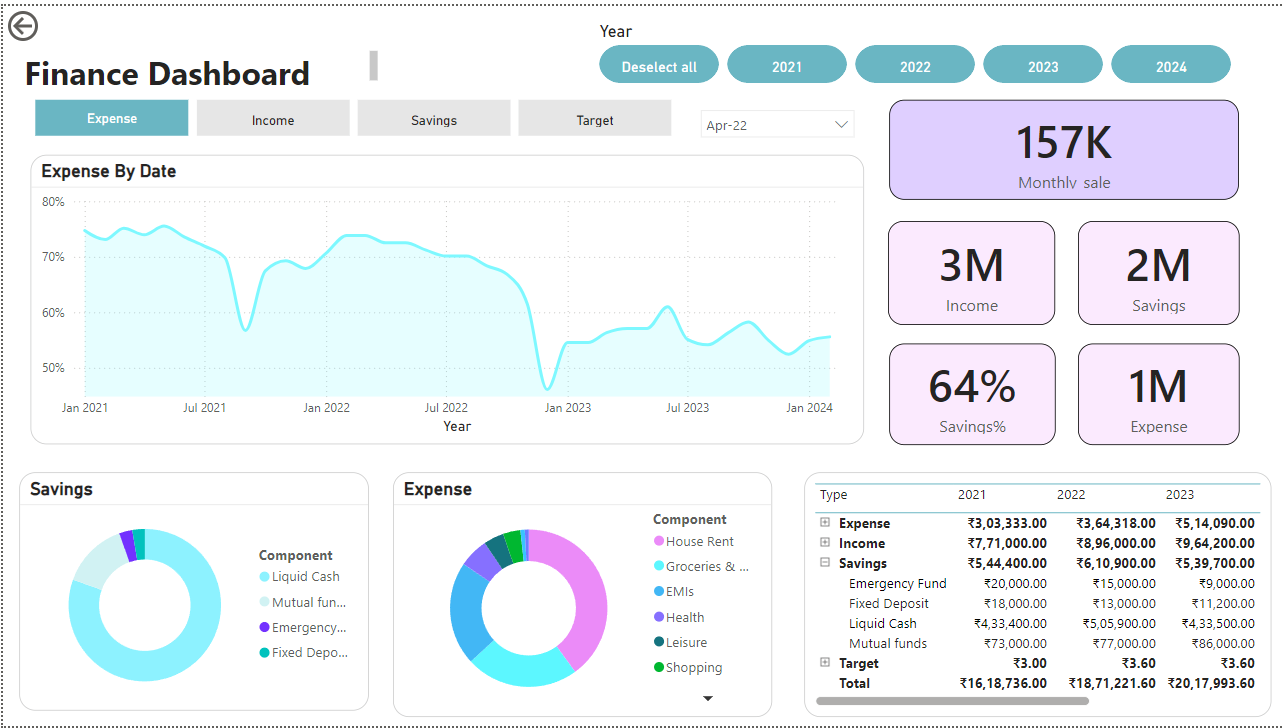

This screenshot's page, from the dashboard's own definition file:
{"tool":"powerbi","page":{"name":"Page 1","canvas":[1280,720],"ordinal":0},"visuals":[{"type":"card","fields":{"Values":["FinData.Income"]},"box":[885.3,215.2,167.5,103.9],"z":0},{"type":"card","fields":{"Values":["FinData.Savings"]},"box":[1074.9,215.2,161.4,103.9],"z":1000},{"type":"card","fields":{"Values":["FinData.Expense"]},"box":[1074.9,337.5,161.4,101.5],"z":2000},{"type":"card","fields":{"Values":["FinData.Savings%"]},"box":[886.6,337.5,166.3,101.5],"z":3000},{"type":"advancedSlicerVisual","fields":{"Values":["FinData.Year"]},"box":[591.9,14.7,644.4,67.3],"z":4000},{"type":"donutChart","title":"Savings","fields":{"Category":["FinData.Component"],"Y":["FinData.Savings"]},"box":[15.9,465.9,349.7,238.5],"z":5000},{"type":"donutChart","title":"Expense","fields":{"Category":["FinData.Component"],"Y":["FinData.Expense"]},"box":[390.1,465.9,379.1,244.6],"z":6000},{"type":"pivotTable","fields":{"Rows":["FinData.Type","FinData.Component"],"Columns":["FinData.Year"],"Values":["FinData.Total_value"]},"box":[801,465.9,467.1,244.6],"z":7000},{"type":"actionButton","box":[0,0,100,40],"z":8000},{"type":"areaChart","fields":{"Category":["FinData.Date.Variation.Date Hierarchy.Year","FinData.Date.Variation.Date Hierarchy.Quarter","FinData.Date.Variation.Date Hierarchy.Month","FinData.Date.Variation.Date Hierarchy.Day"],"Y":["FinData.Line_Chart_Measure"]},"box":[26.9,149.2,834,289.8],"z":9000},{"type":"advancedSlicerVisual","fields":{"Values":["Line_Selection_Table.Type"]},"box":[26.9,94.2,648.1,36.7],"z":10000},{"type":"textbox","box":[15.9,40.4,363.2,45.2],"z":10001},{"type":"slicer","fields":{"Values":["Selected_Date.Month_year"]},"box":[687.2,94.2,173.6,55],"z":10002},{"type":"card","fields":{"Values":["FinData.Monthly_sale"]},"box":[886.6,94.2,349.7,100.3],"z":10003}]}

Visuals, with their boxes in screenshot pixels (x1, y1, x2, y2), scaled from the page's 1280x720 canvas onto the 1283x728 screenshot:
card - FinData.Income: [887, 218, 1055, 323]
card - FinData.Savings: [1077, 218, 1239, 323]
card - FinData.Expense: [1077, 341, 1239, 444]
card - FinData.Savings%: [889, 341, 1055, 444]
advancedSlicerVisual - FinData.Year: [593, 15, 1239, 83]
"Savings" donutChart: [16, 471, 366, 712]
"Expense" donutChart: [391, 471, 771, 718]
pivotTable - FinData.Type x FinData.Component: [803, 471, 1271, 718]
actionButton: [0, 0, 100, 40]
areaChart - FinData.Date.Variation.Date Hierarchy.Year x FinData.Date.Variation.Date Hierarchy.Quarter: [27, 151, 863, 444]
advancedSlicerVisual - Line_Selection_Table.Type: [27, 95, 677, 132]
textbox: [16, 41, 380, 87]
slicer - Selected_Date.Month_year: [689, 95, 863, 151]
card - FinData.Monthly_sale: [889, 95, 1239, 197]
